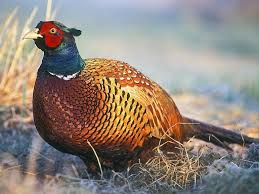Gà/Chicken: (11, 12, 210, 183)
